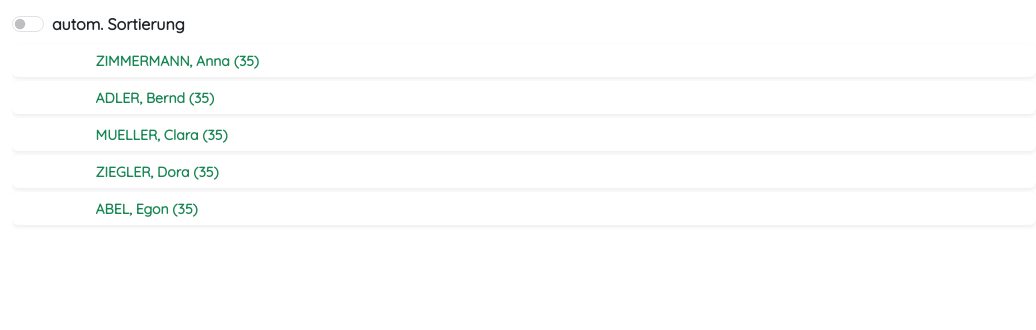
Test: SingleCastList › autom. Sortierung (choirjobs only) › groups and sorts by Voice order then alphabetically within a group, "Stimmlage unbekannt" last
The width and height of the screenshot is (1036, 330).
Step 1. Click the switch labelled "autom. Sortierung" → (28,24), box [12,16,44,32]
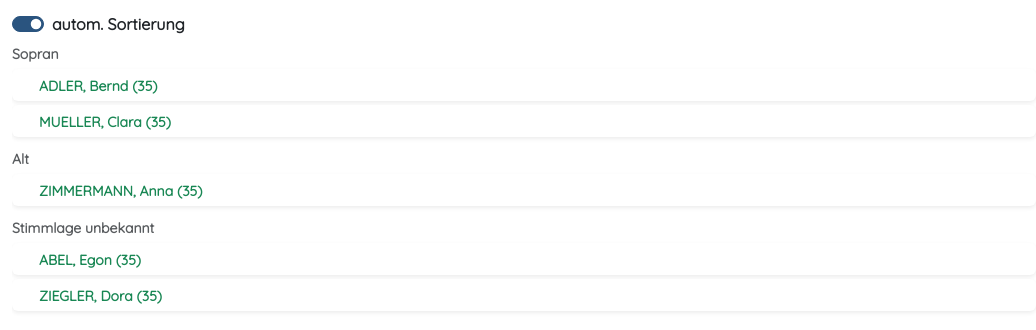
Expected: the elements with class "fw-bold" read "Sopran", "Alt", "Stimmlage unbekannt", in this order, [12,45,59,63]; [12,150,29,168]; [12,219,154,237]
